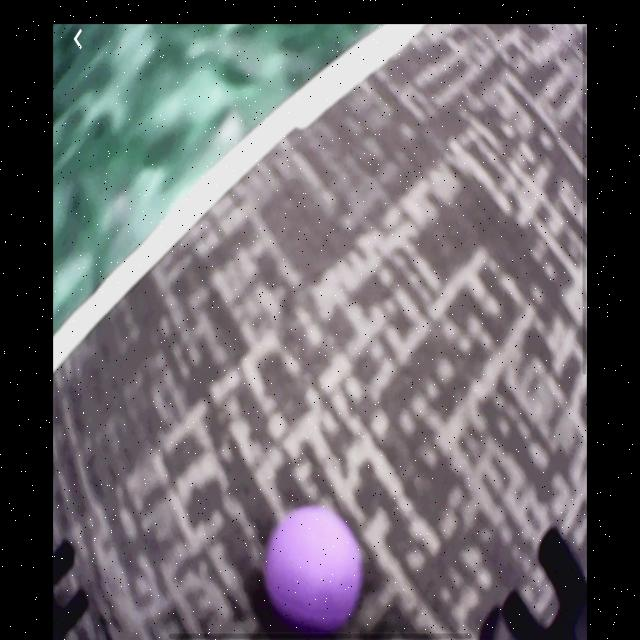ball: (266, 499, 364, 638)
